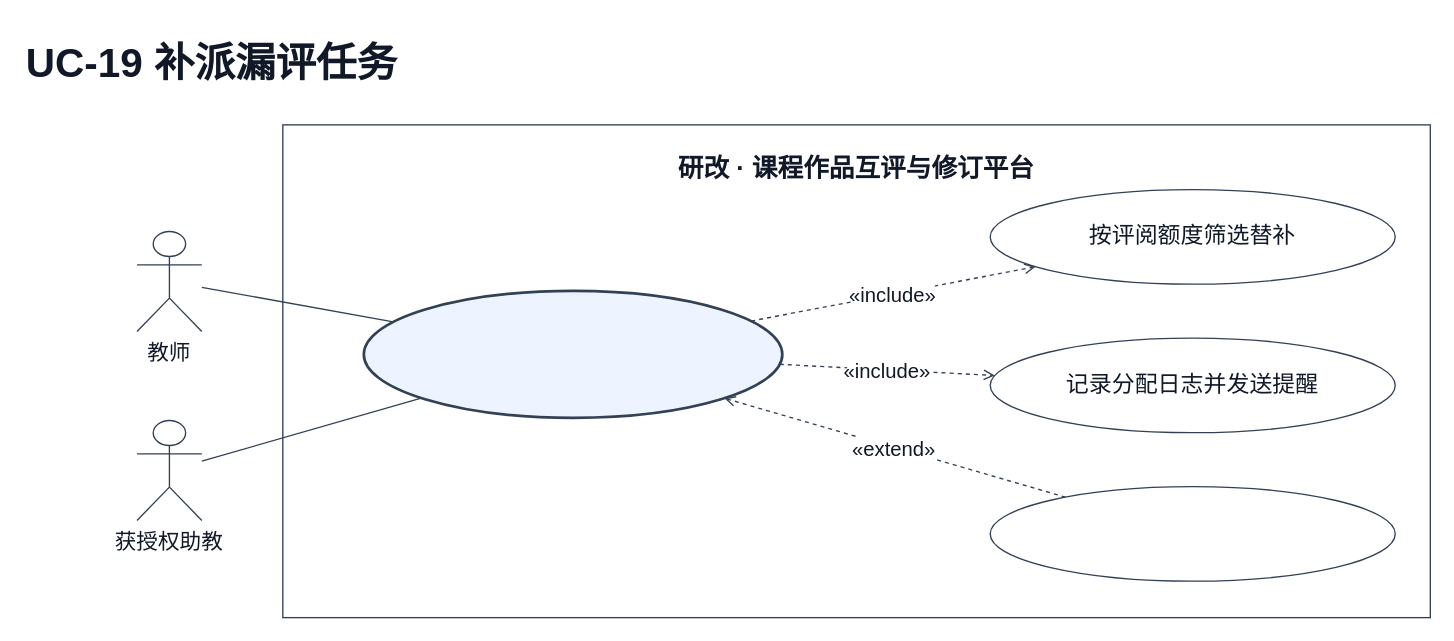
Image size: 1454x641. Some labels were removed from this diagram. Here are the shapes that lost their labels. From the top down, the centre of each, then its label:
At [572,353]: "补派漏评任务".
At [1192,533]: "无合格替补时保持待处理".
